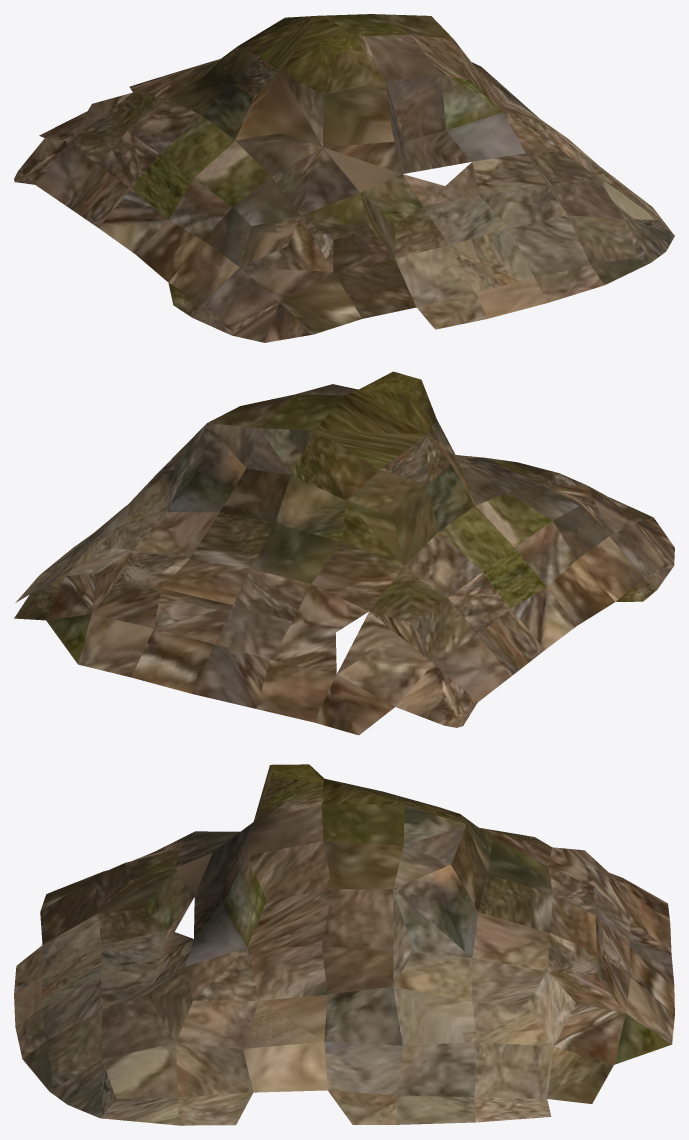
Rendered from stump.glb.
3 renders of one model, top to bottom at view 1: azimuth 30°, elevation 25°; view 2: azimuth 150°, elevation 25°; view 3: azimuth 270°, elevation 25°, orthographic. The views are drawn at different scales.
Visible parts, largest first — view 1: stump; view 2: stump; view 3: stump.
Boxes of the visible parts, <box> form: stump: <box>14,14,674,342</box>; stump: <box>14,371,674,735</box>; stump: <box>14,764,674,1125</box>.
Size of the model in its own units: 1.41 by 0.5557 by 1.56.
Materials: 1 (1 with a texture image).
